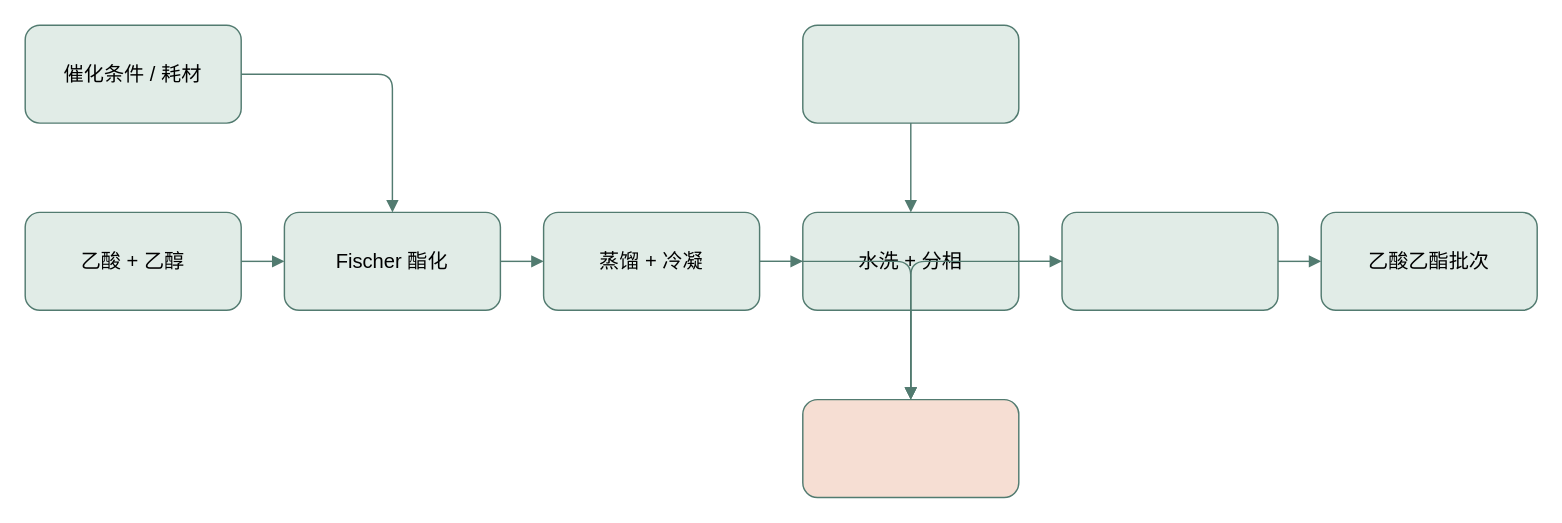
This 1562x523 diagram has some shape labels left out. Here are the shapes that lost their labels. From the top down, the box of each, then its label:
(801, 24, 1019, 123): 洗涤水
(1061, 211, 1278, 310): 干燥 + 质量门
(801, 398, 1019, 498): 水相 / 有机残余
